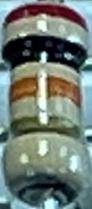Black: (3, 35, 88, 71)
Green: (5, 114, 85, 147)
Orange: (9, 78, 81, 108)
Red: (3, 7, 88, 31)
